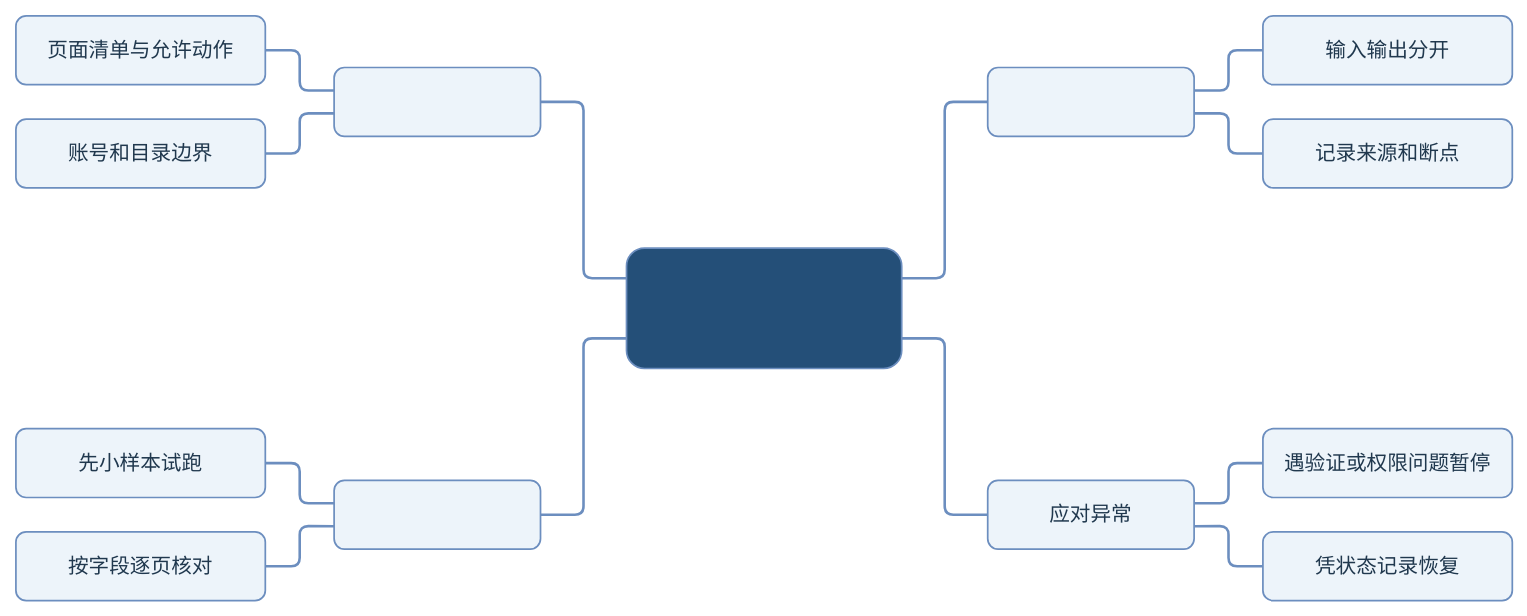
Some shapes in this 1527 by 616 pixel diagram are drawn without their labels. Each missing label, with the centre of its shape:
划定范围: the point at 437,101
操作页面: the point at 437,514
第8章 操作电脑与浏览器: the point at 763,308
管理成果: the point at 1090,101
